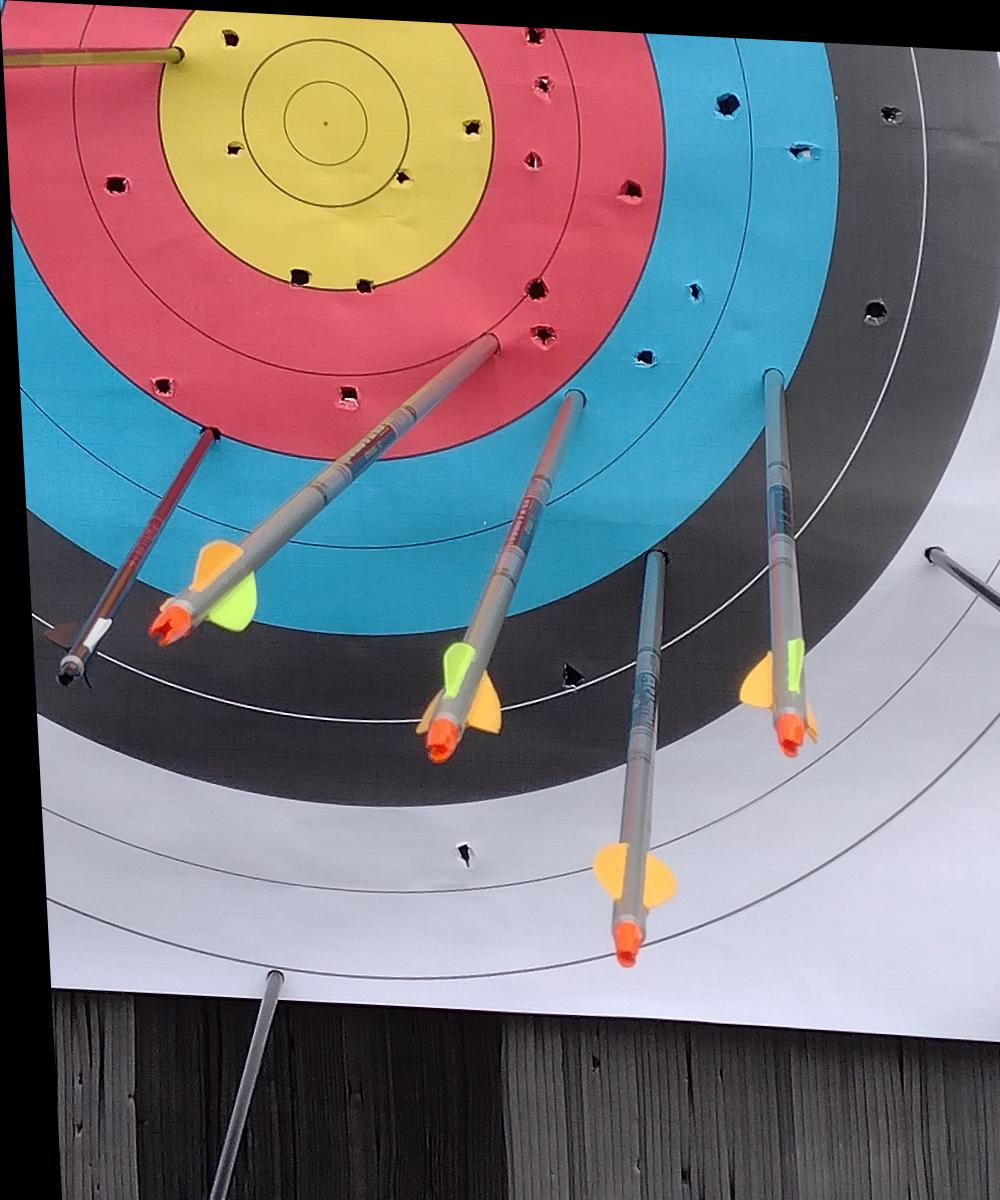10-Ring: (240, 35, 407, 205)
7-Ring: (0, 0, 669, 470)
8-Ring: (65, 3, 584, 383)
9-Ring: (152, 7, 499, 293)
Arrow: (128, 283, 497, 680), (399, 373, 608, 776), (24, 406, 212, 699), (704, 362, 814, 754), (581, 545, 667, 962), (195, 968, 274, 1200), (2, 42, 181, 67)
